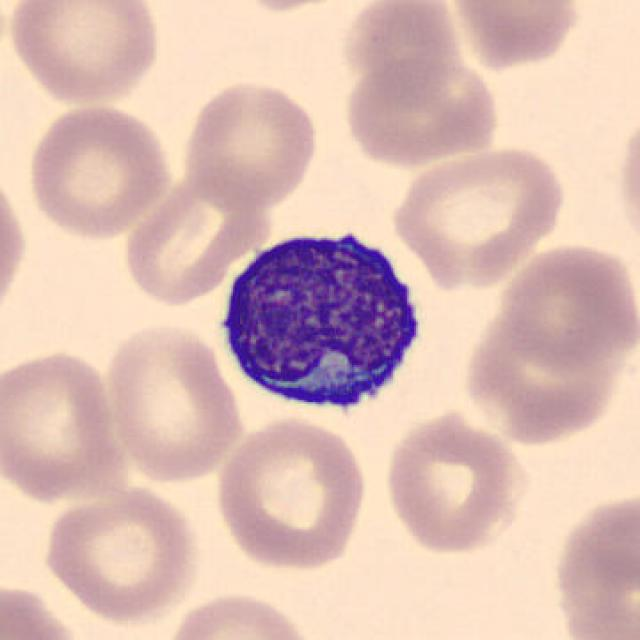Lymphocyte: (210, 215, 434, 427)
RBC: (387, 141, 569, 291), (212, 413, 372, 573), (456, 298, 624, 448), (100, 317, 246, 485), (378, 407, 532, 559), (39, 483, 203, 624), (23, 98, 176, 242), (0, 344, 130, 506), (120, 173, 270, 309), (178, 76, 322, 210), (494, 240, 638, 372), (340, 53, 503, 169), (3, 0, 165, 108), (547, 485, 640, 640), (338, 0, 464, 95), (441, 0, 587, 71), (160, 587, 320, 640), (0, 576, 87, 640), (0, 162, 32, 330), (611, 100, 640, 264)
